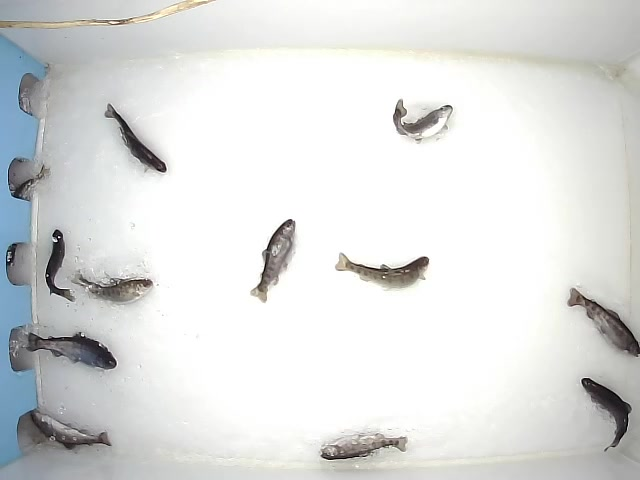fish: (566, 285, 640, 359), (104, 103, 167, 174), (248, 215, 297, 306), (579, 377, 633, 454), (25, 328, 117, 372), (27, 407, 113, 452), (335, 251, 430, 290), (70, 267, 154, 305), (391, 96, 455, 145), (317, 430, 408, 460), (44, 230, 75, 304)
